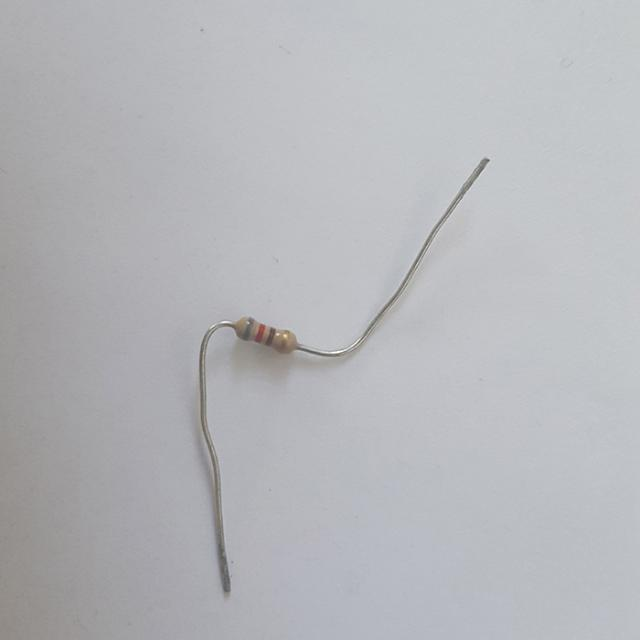brown: (266, 328, 275, 344)
gold: (279, 330, 288, 352)
grey: (243, 318, 254, 339)
red: (255, 324, 264, 341)
resistor: (234, 321, 301, 358)
